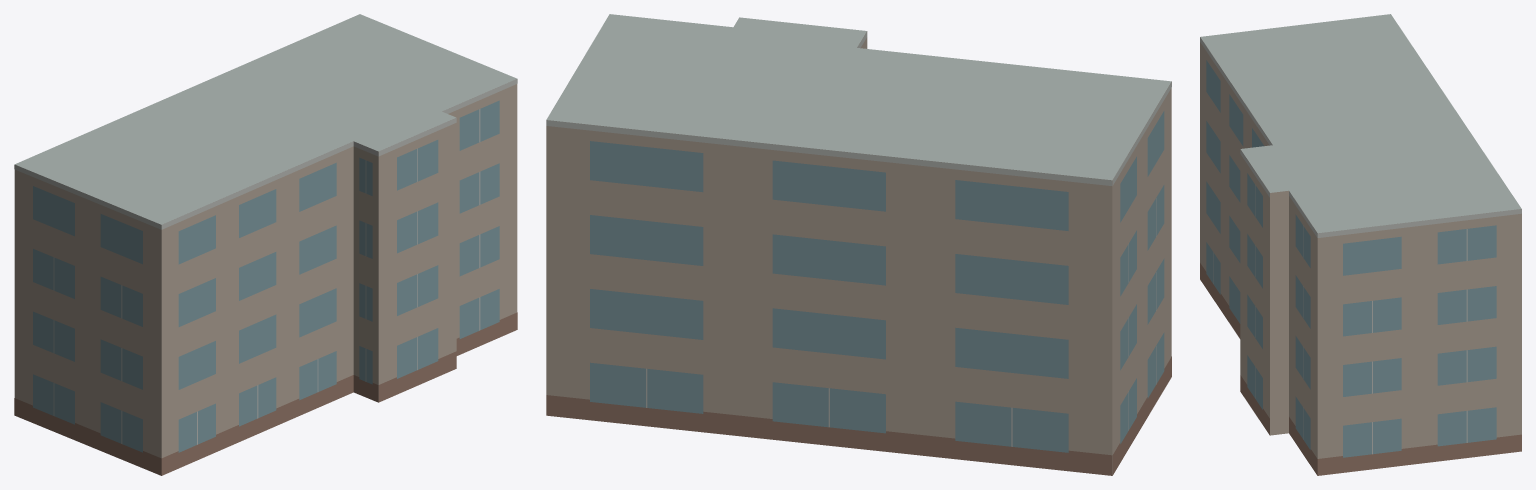
Rendered from residential-73ffb352-9e78-45bd-9024-e508fb227a97.glb.
3 views of the same model, side by side, from view 1: azimuth 30°, elevation 25°; view 2: azimuth 150°, elevation 25°; view 3: azimuth 270°, elevation 25° (orthographic). The views are drawn at different scales.
Parts seen in each view (by area): view 1: residential-73ffb352-9e78-45bd-9024-e508fb227a97.tmp; view 2: residential-73ffb352-9e78-45bd-9024-e508fb227a97.tmp; view 3: residential-73ffb352-9e78-45bd-9024-e508fb227a97.tmp.
Part boxes in pixels (x1=…): residential-73ffb352-9e78-45bd-9024-e508fb227a97.tmp: x1=14, y1=14, x2=517, y2=475; residential-73ffb352-9e78-45bd-9024-e508fb227a97.tmp: x1=546, y1=14, x2=1171, y2=475; residential-73ffb352-9e78-45bd-9024-e508fb227a97.tmp: x1=1200, y1=14, x2=1521, y2=475.
Bounding box in the file's own units: 23.66 × 12.2 × 14.67.
